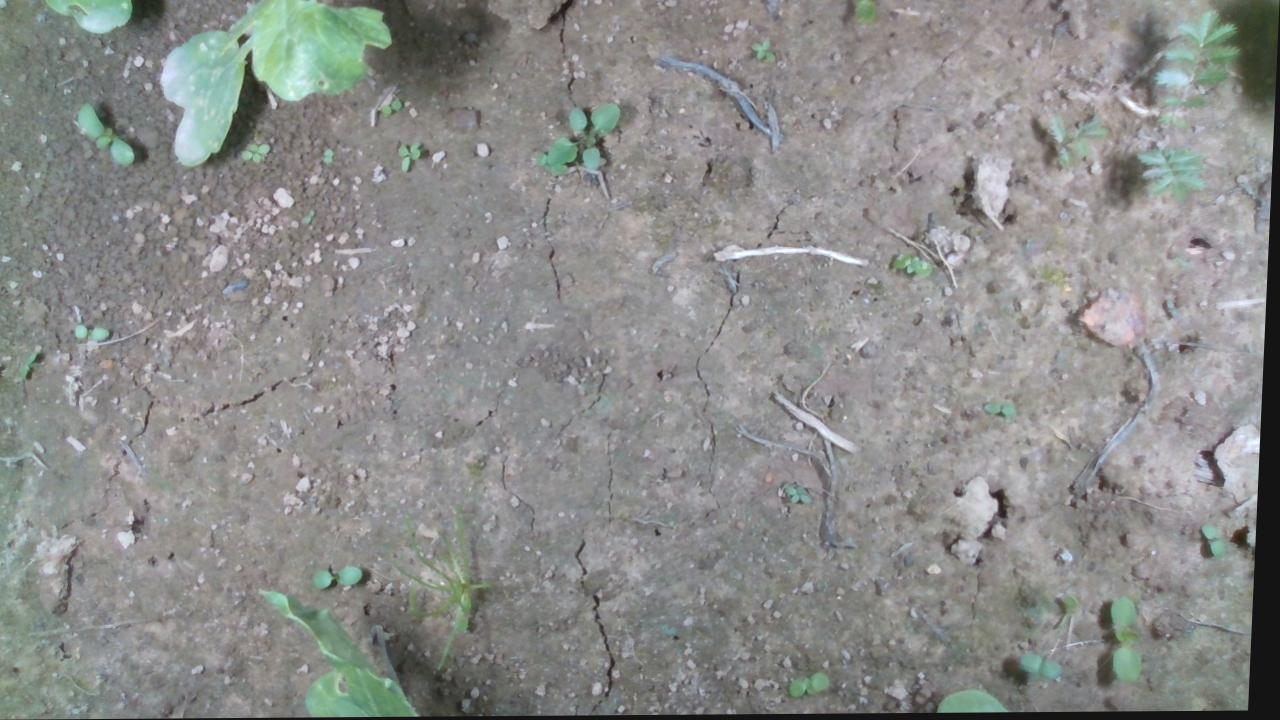weed: (74, 100, 139, 169), (1112, 595, 1151, 683), (1022, 653, 1070, 682), (312, 566, 367, 590), (791, 672, 835, 699), (894, 254, 936, 279), (1203, 522, 1231, 558), (748, 35, 777, 65), (239, 139, 272, 165), (397, 141, 423, 172), (75, 322, 115, 340), (21, 347, 41, 382), (986, 402, 1020, 418), (379, 99, 403, 116), (321, 146, 334, 166)
